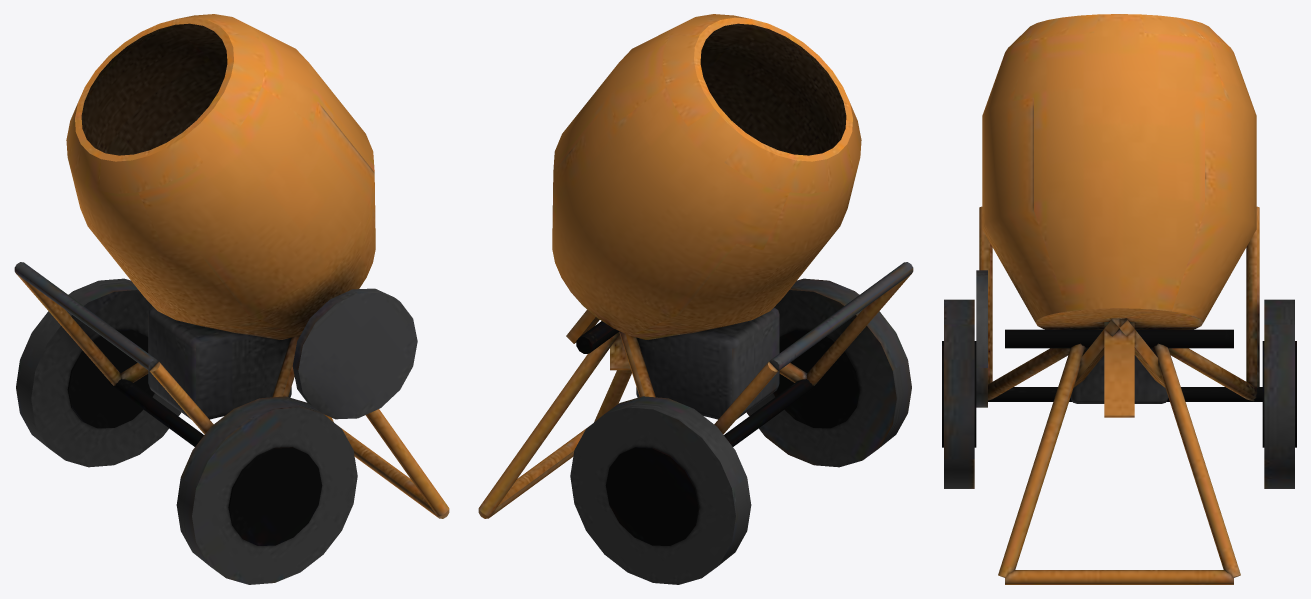
File: mixer.glb
The picture shows the model from 3 angles, left to right: view 1: azimuth 30°, elevation 25°; view 2: azimuth 150°, elevation 25°; view 3: azimuth 270°, elevation 25°; orthographic projection.
Parts seen in each view (by area): view 1: axle; view 2: axle; view 3: axle.
Boxes of the visible parts, x1,y1,x2,y2 form: axle: (14, 14, 449, 584); axle: (478, 14, 913, 584); axle: (942, 14, 1296, 584).
Size of the model in its own units: 0.9361 by 1.42 by 0.93.
Materials: 1 (1 with a texture image).
